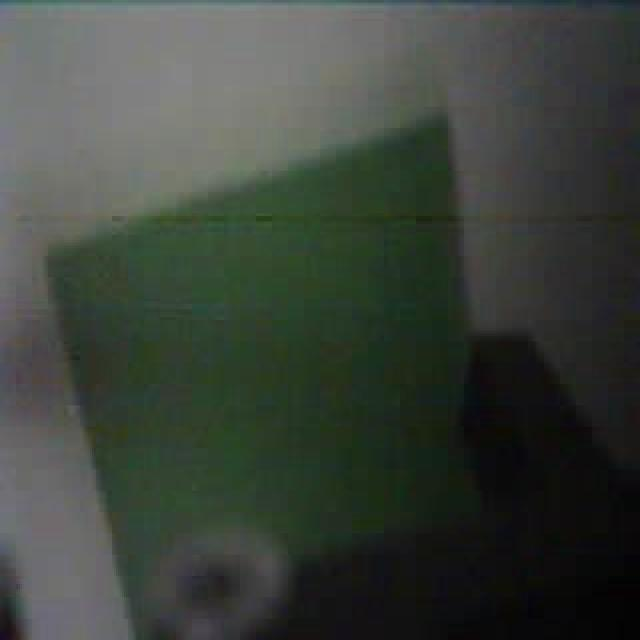green_box: (49, 131, 504, 613)
